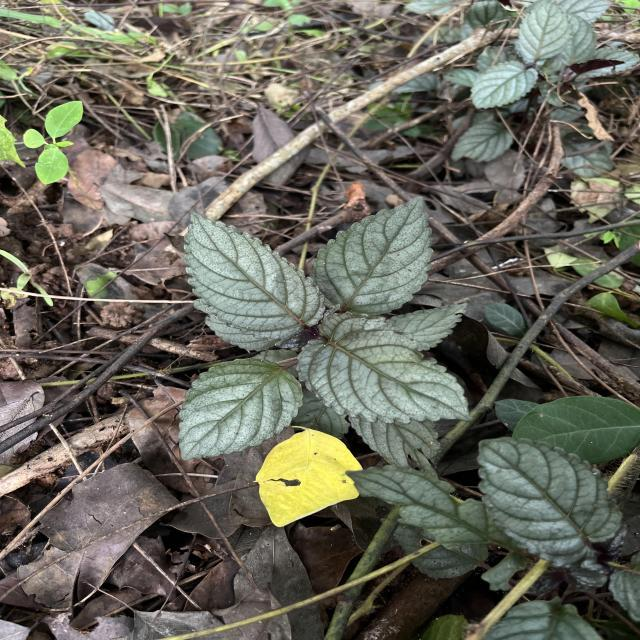Hemigraphis colorata: (294, 310, 476, 426), (474, 435, 627, 569), (180, 208, 328, 342), (308, 194, 436, 318), (176, 356, 306, 462)
